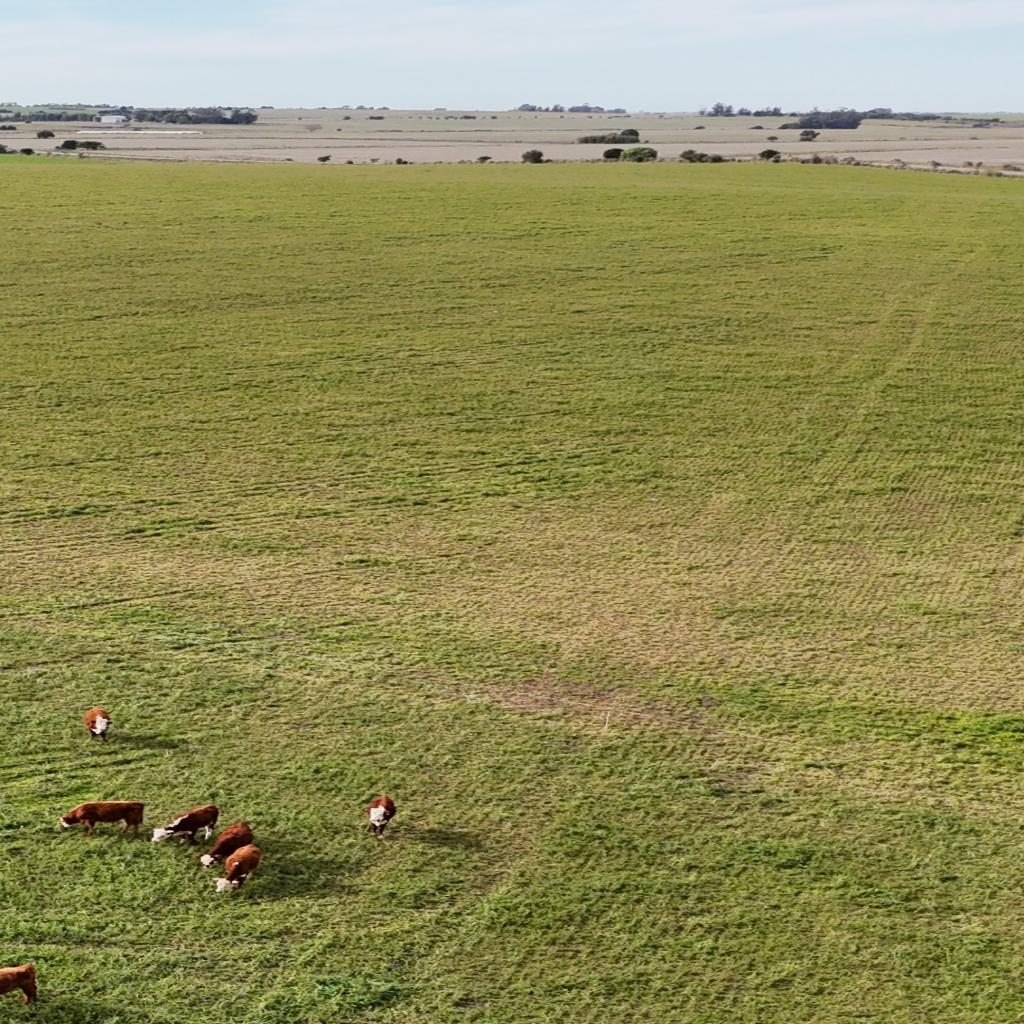cow: (57, 802, 145, 836), (153, 804, 223, 845), (200, 825, 256, 869), (214, 843, 261, 894), (1, 963, 40, 1007), (364, 796, 396, 839), (83, 708, 113, 741)
